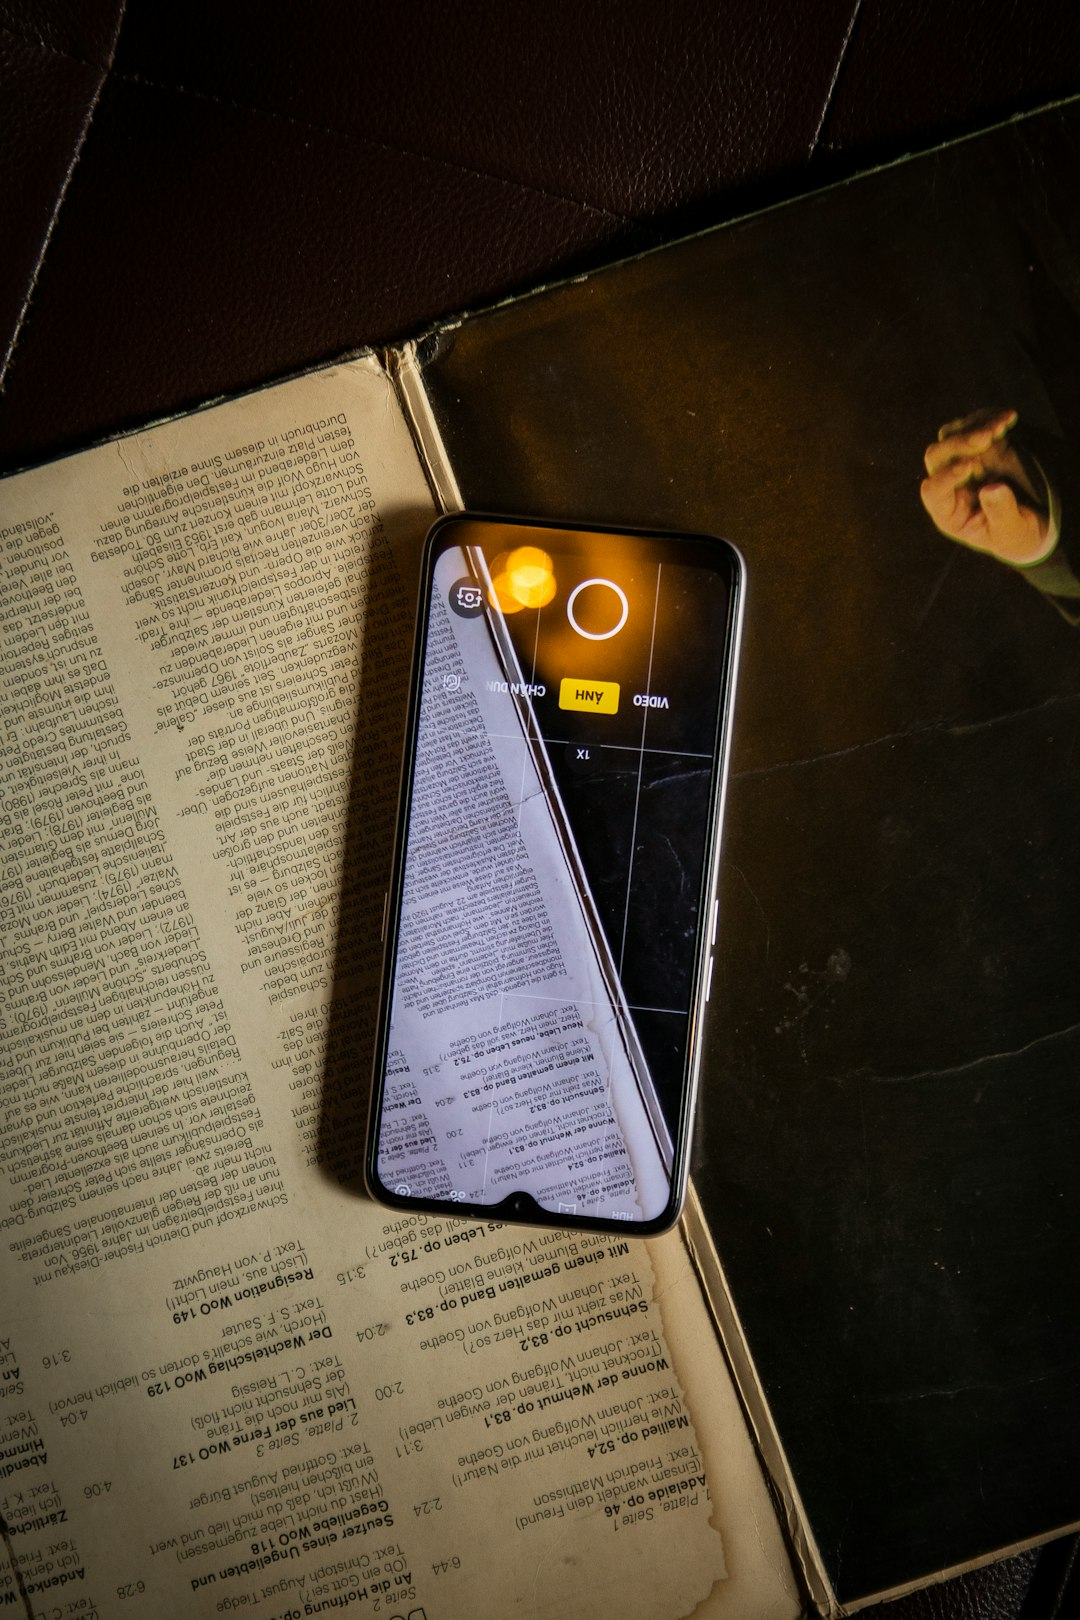phone: (351, 505, 746, 1240)
